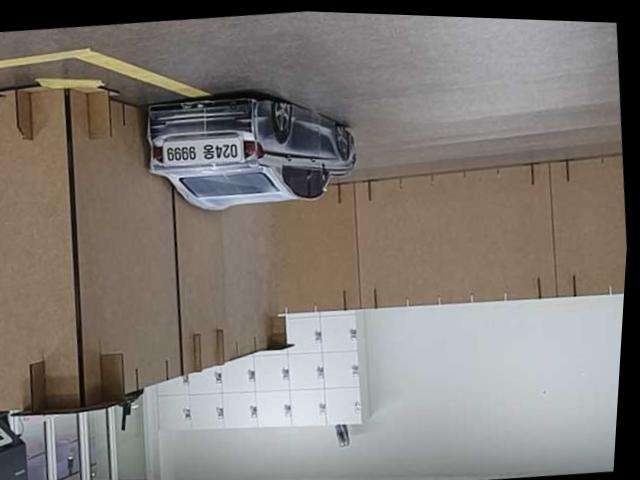car: (133, 75, 369, 230)
id: (158, 127, 247, 176)
